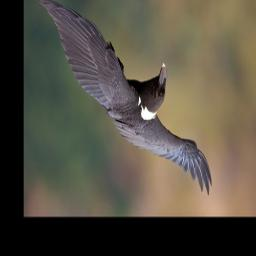Crow: (36, 0, 213, 197)
